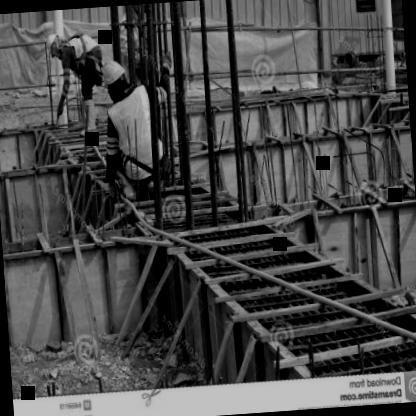helmet: (100, 57, 128, 95), (43, 30, 63, 58)
